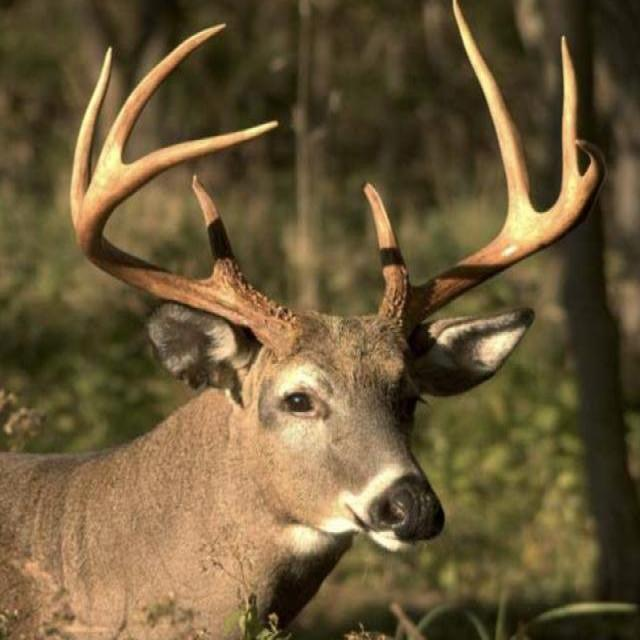deer: (8, 7, 598, 622)
